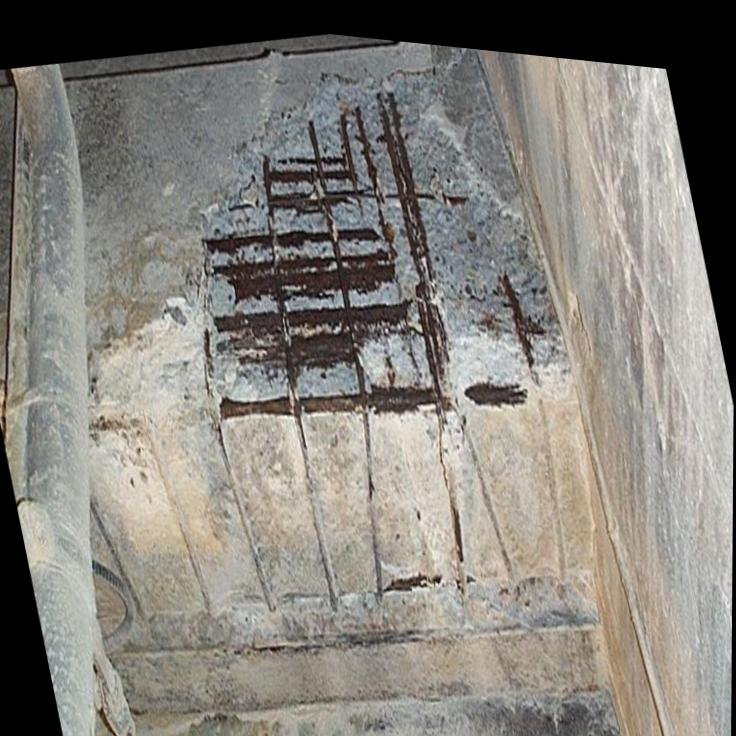damage: (203, 75, 558, 446), (385, 566, 442, 583)
